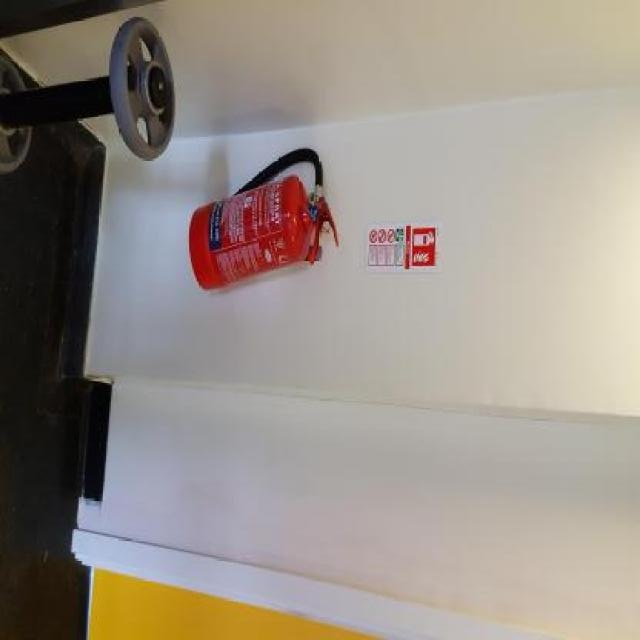fire extinguisher: (189, 150, 339, 293)
